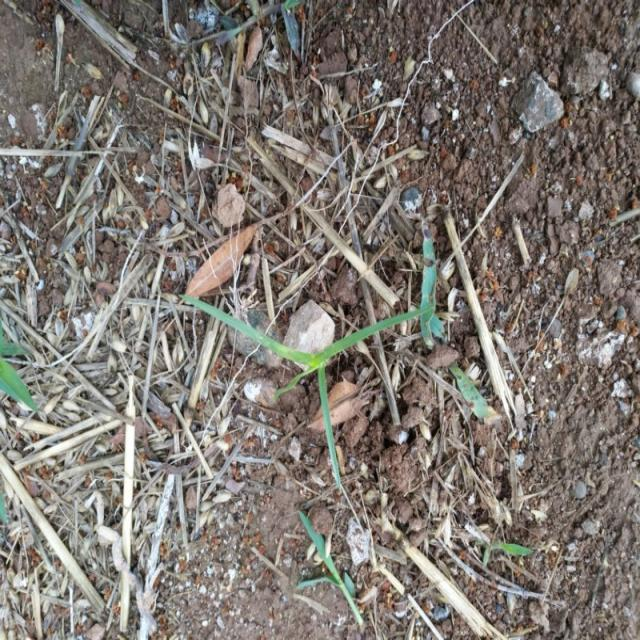sedge: (172, 233, 428, 514)
